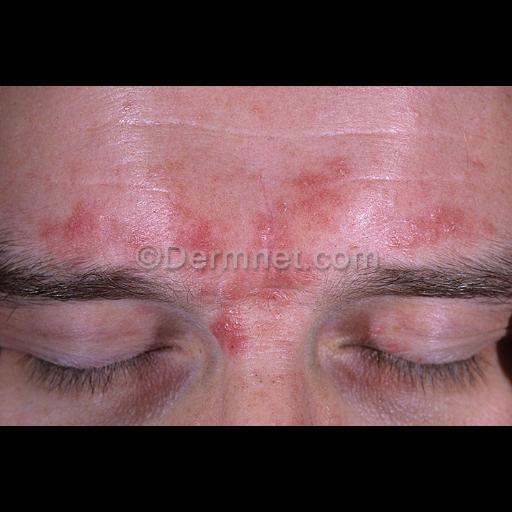Skin_Lesion: (158, 211, 226, 259), (397, 213, 477, 245), (248, 224, 300, 272), (42, 208, 100, 246), (300, 166, 344, 210), (210, 309, 248, 351)
